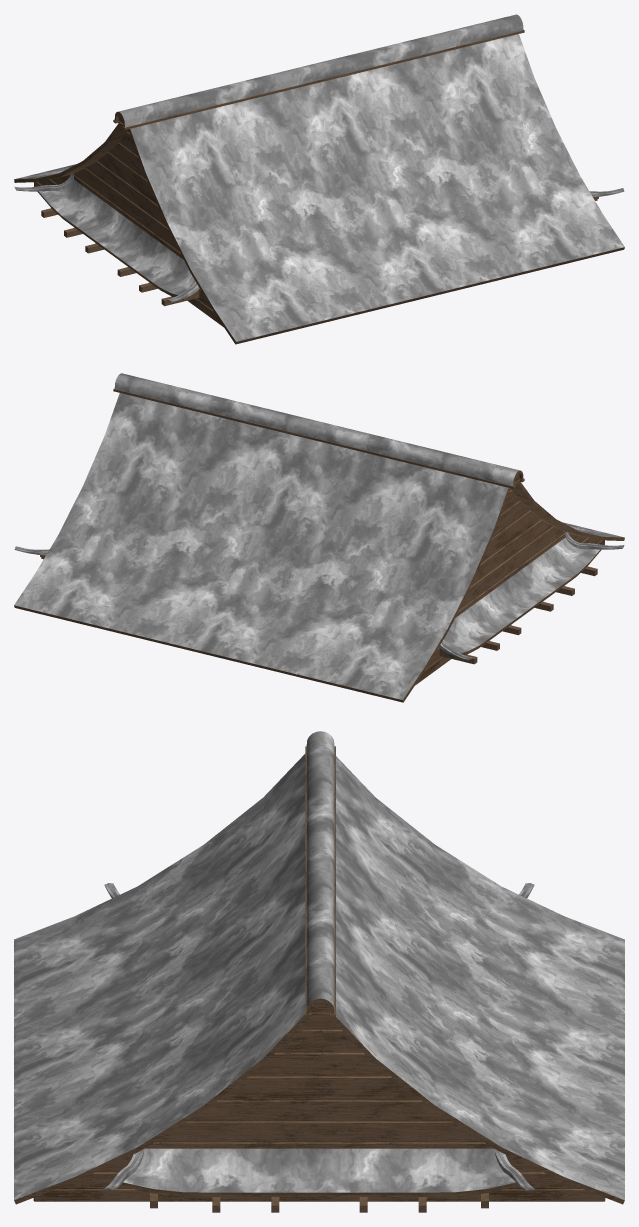
The model's file is SM_roof_07.fbx.
3 renders of one model, top to bottom at view 1: azimuth 30°, elevation 25°; view 2: azimuth 150°, elevation 25°; view 3: azimuth 270°, elevation 25°, orthographic. The views are drawn at different scales.
Parts seen in each view (by area): view 1: SM_roof_07; view 2: SM_roof_07; view 3: SM_roof_07.
Part boxes in pixels (bbox=[...]): SM_roof_07: bbox=[14, 14, 624, 344]; SM_roof_07: bbox=[14, 373, 624, 702]; SM_roof_07: bbox=[14, 731, 624, 1212].
Size of the model in its own units: 1267 by 1068 by 415.
Materials: 3 (3 with a texture image).
